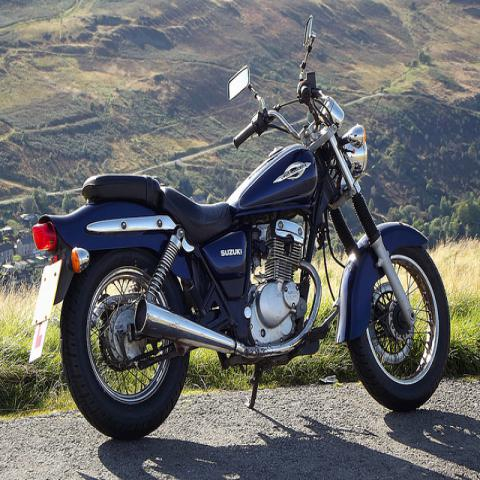motorcycle: (29, 19, 452, 444)
